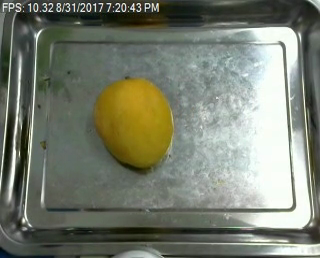Mango: (94, 78, 174, 167)
